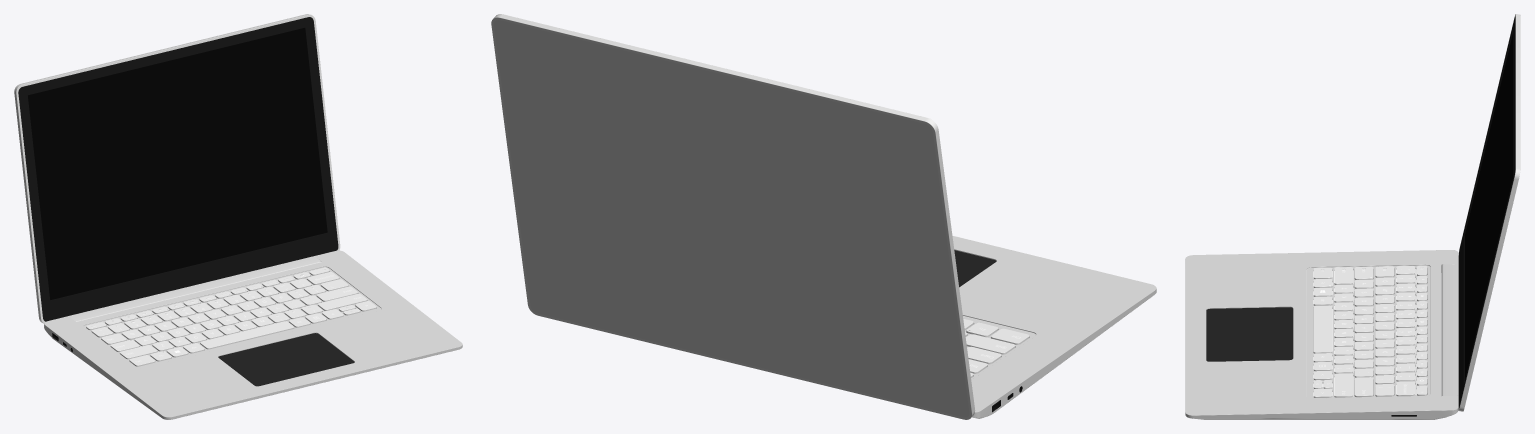
The picture shows the model from 3 angles, left to right: view 1: azimuth 30°, elevation 25°; view 2: azimuth 150°, elevation 25°; view 3: azimuth 270°, elevation 25°; orthographic projection. The views are drawn at different scales.
Parts seen in each view (by area): view 1: Screen, Modern Slim Laptop, Screen Frame, Keyboard; view 2: Screen Frame, Modern Slim Laptop, Keyboard; view 3: Modern Slim Laptop, Keyboard, Screen, Screen Frame.
Part boxes in pixels (<box>): Screen: <box>28,28,327,299</box>; Modern Slim Laptop: <box>44,250,462,419</box>; Screen Frame: <box>14,14,340,323</box>; Keyboard: <box>86,267,376,366</box>; Screen Frame: <box>491,14,975,419</box>; Modern Slim Laptop: <box>952,235,1156,418</box>; Keyboard: <box>963,318,1029,377</box>; Modern Slim Laptop: <box>1185,250,1458,419</box>; Keyboard: <box>1313,265,1427,397</box>; Screen: <box>1464,34,1512,380</box>; Screen Frame: <box>1458,14,1520,411</box>.
Size of the model in its own units: 0.3395 by 0.2466 by 0.2996.
8 materials, 1 textured.
